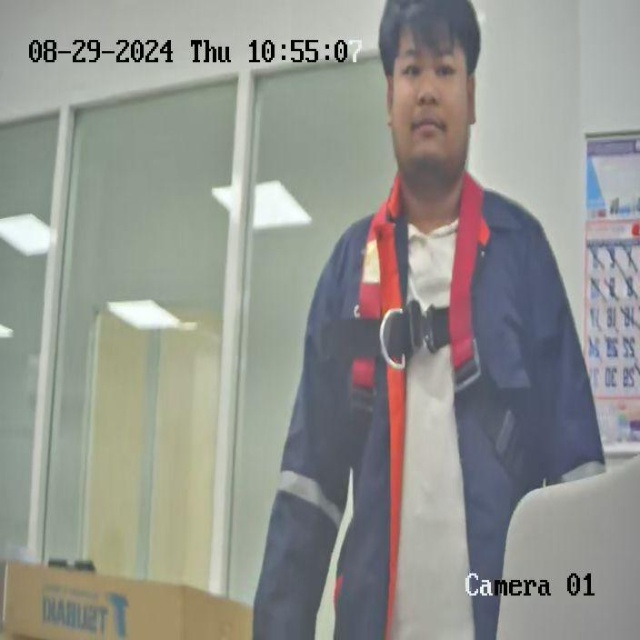Arnes_seguridad: (344, 175, 543, 478)
